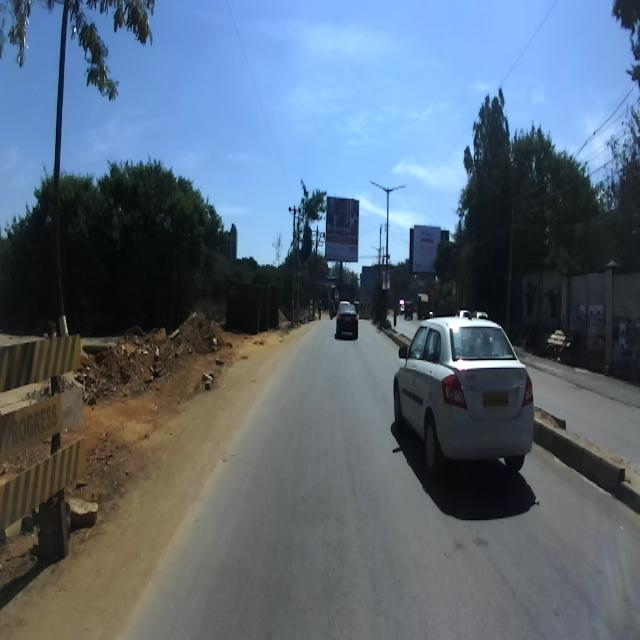car ahead at: (394, 318, 538, 496)
